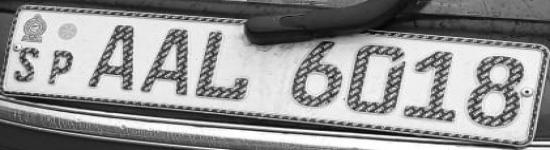0: (346, 39, 409, 117)
1: (407, 48, 462, 126)
6: (286, 39, 346, 110)
8: (463, 50, 528, 130)
A: (84, 19, 137, 94), (140, 24, 193, 99)
L: (196, 26, 250, 103)
P: (45, 46, 76, 87)
S: (15, 44, 42, 86)
